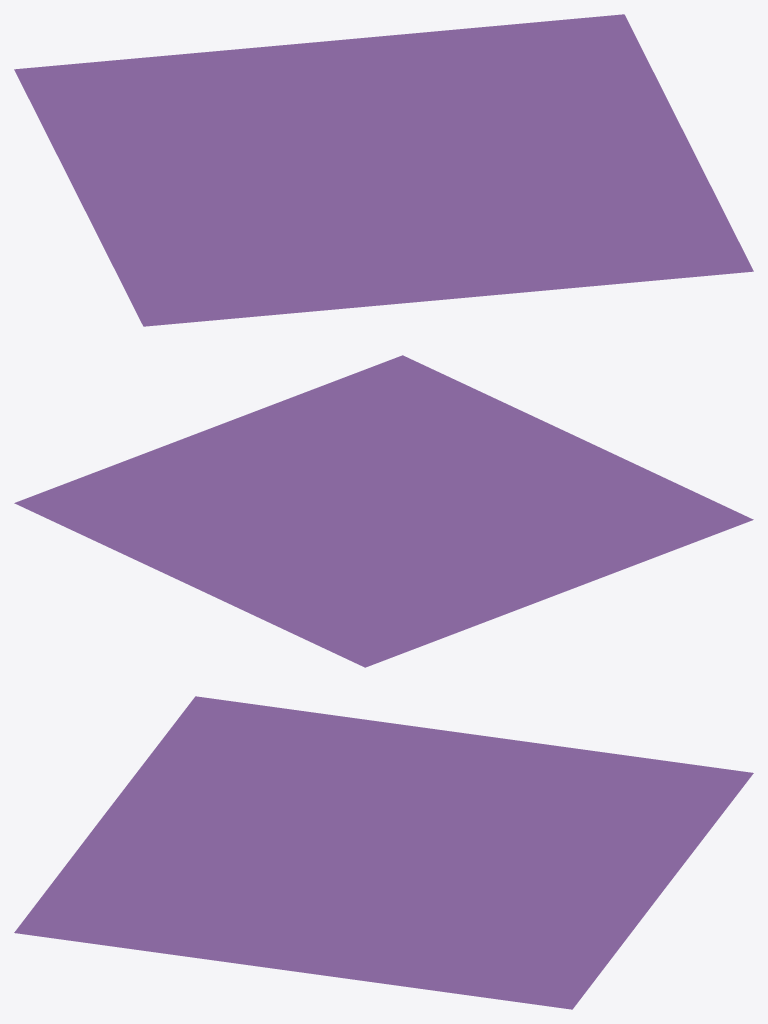
The model's file is Close_Lore_Floor.fbx.
3 renders of one model, top to bottom at view 1: azimuth 30°, elevation 25°; view 2: azimuth 150°, elevation 25°; view 3: azimuth 270°, elevation 25°, orthographic. The views are drawn at different scales.
Visible parts, largest first — view 1: Close_Lore_Floor_low; view 2: Close_Lore_Floor_low; view 3: Close_Lore_Floor_low.
Boxes of the visible parts, left/top/right/bottom form: Close_Lore_Floor_low: left=14, top=14, right=753, bottom=326; Close_Lore_Floor_low: left=14, top=355, right=753, bottom=667; Close_Lore_Floor_low: left=14, top=696, right=753, bottom=1009.
Size of the model in its own units: 1515 by 0 by 1512.
